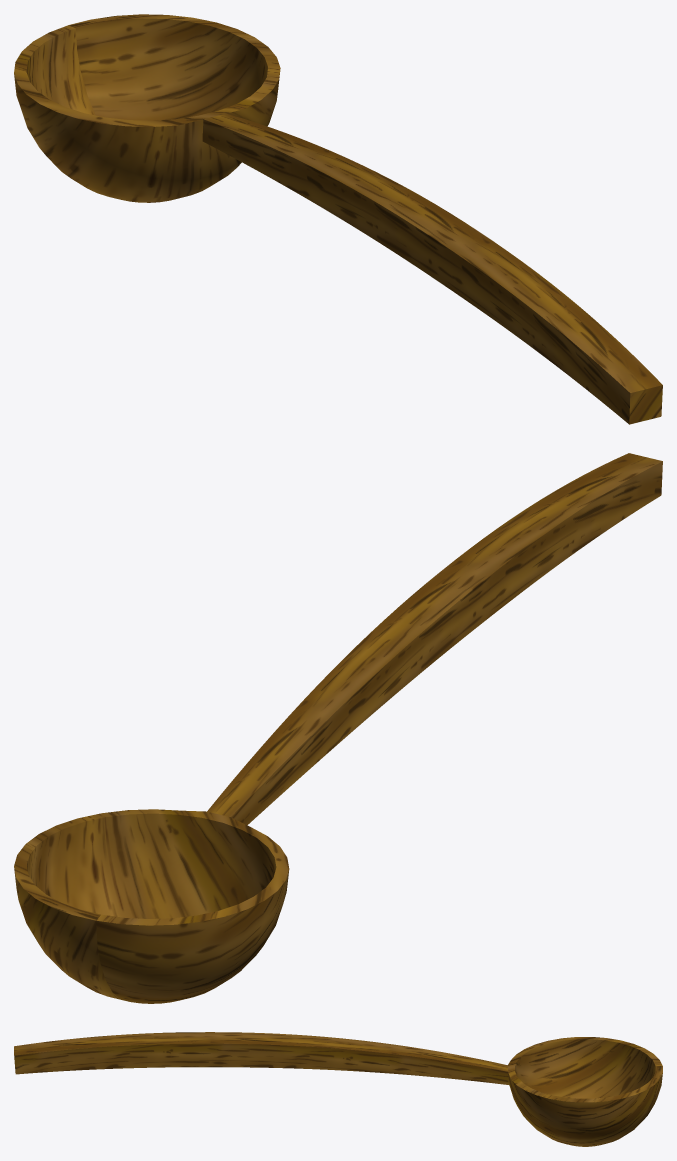
Rendered from Louche.glb.
The picture shows the model from 3 angles, top to bottom: view 1: azimuth 30°, elevation 25°; view 2: azimuth 150°, elevation 25°; view 3: azimuth 270°, elevation 25°; orthographic projection. The views are drawn at different scales.
Parts seen in each view (by area): view 1: Louche; view 2: Louche; view 3: Louche.
Boxes of the visible parts, x1,y1,x2,y2 form: Louche: [14, 14, 662, 424]; Louche: [14, 453, 662, 1003]; Louche: [14, 1032, 662, 1146].
Size of the model in its own units: 2.2 by 1.62 by 9.19.
1 material, 1 textured.
